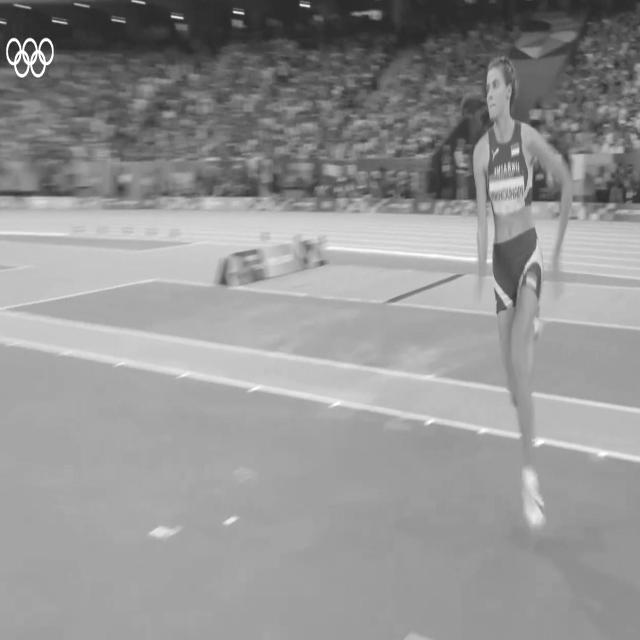run: (468, 54, 571, 528)
